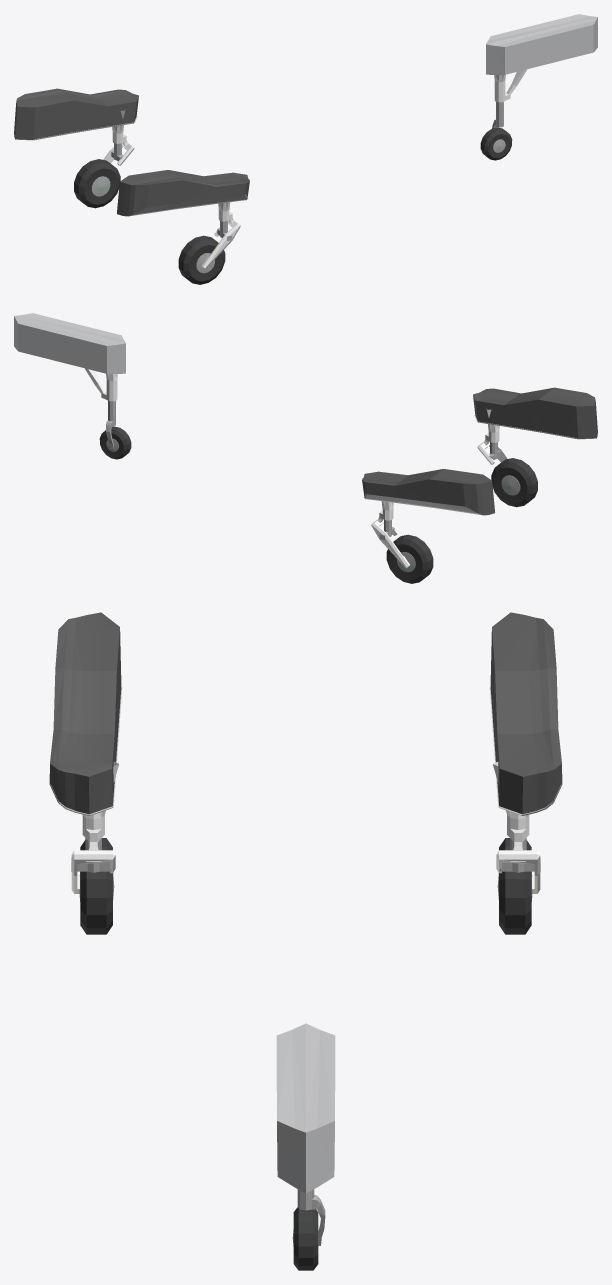
File: Gear_YF23NG.obj
3 views of the same model, one above another, from view 1: azimuth 30°, elevation 25°; view 2: azimuth 150°, elevation 25°; view 3: azimuth 270°, elevation 25° (orthographic). The views are drawn at different scales.
Visible parts, largest first — view 1: ShapeIndexedFaceSet.054_ShapeIndexedFaceSet.055, ShapeIndexedFaceSet.062_ShapeIndexedFaceSet.063, ShapeIndexedFaceSet.018_ShapeIndexedFaceSet.019, ShapeIndexedFaceSet.010_ShapeIndexedFaceSet.011, ShapeIndexedFaceSet.025_ShapeIndexedFaceSet.026, ShapeIndexedFaceSet.006_ShapeIndexedFaceSet.007, ShapeIndexedFaceSet.007_ShapeIndexedFaceSet.008; view 2: ShapeIndexedFaceSet.054_ShapeIndexedFaceSet.055, ShapeIndexedFaceSet.062_ShapeIndexedFaceSet.063, ShapeIndexedFaceSet.010_ShapeIndexedFaceSet.011, ShapeIndexedFaceSet.018_ShapeIndexedFaceSet.019, ShapeIndexedFaceSet.014_ShapeIndexedFaceSet.015, ShapeIndexedFaceSet.025_ShapeIndexedFaceSet.026, ShapeIndexedFaceSet.015_ShapeIndexedFaceSet.016; view 3: ShapeIndexedFaceSet.054_ShapeIndexedFaceSet.055, ShapeIndexedFaceSet.062_ShapeIndexedFaceSet.063, ShapeIndexedFaceSet.018_ShapeIndexedFaceSet.019, ShapeIndexedFaceSet.010_ShapeIndexedFaceSet.011, ShapeIndexedFaceSet.025_ShapeIndexedFaceSet.026, ShapeIndexedFaceSet.015_ShapeIndexedFaceSet.016, ShapeIndexedFaceSet.007_ShapeIndexedFaceSet.008.
Boxes of the visible parts, bbox=[...] form: ShapeIndexedFaceSet.054_ShapeIndexedFaceSet.055: bbox=[14, 88, 249, 216]; ShapeIndexedFaceSet.062_ShapeIndexedFaceSet.063: bbox=[486, 14, 597, 74]; ShapeIndexedFaceSet.018_ShapeIndexedFaceSet.019: bbox=[74, 159, 120, 208]; ShapeIndexedFaceSet.010_ShapeIndexedFaceSet.011: bbox=[178, 235, 225, 284]; ShapeIndexedFaceSet.025_ShapeIndexedFaceSet.026: bbox=[480, 127, 512, 160]; ShapeIndexedFaceSet.006_ShapeIndexedFaceSet.007: bbox=[129, 195, 247, 216]; ShapeIndexedFaceSet.007_ShapeIndexedFaceSet.008: bbox=[202, 220, 240, 269]; ShapeIndexedFaceSet.054_ShapeIndexedFaceSet.055: bbox=[362, 387, 597, 515]; ShapeIndexedFaceSet.062_ShapeIndexedFaceSet.063: bbox=[14, 313, 125, 373]; ShapeIndexedFaceSet.010_ShapeIndexedFaceSet.011: bbox=[491, 458, 537, 507]; ShapeIndexedFaceSet.018_ShapeIndexedFaceSet.019: bbox=[386, 534, 433, 583]; ShapeIndexedFaceSet.014_ShapeIndexedFaceSet.015: bbox=[364, 494, 482, 515]; ShapeIndexedFaceSet.025_ShapeIndexedFaceSet.026: bbox=[99, 426, 131, 459]; ShapeIndexedFaceSet.015_ShapeIndexedFaceSet.016: bbox=[371, 519, 409, 568]; ShapeIndexedFaceSet.054_ShapeIndexedFaceSet.055: bbox=[49, 612, 562, 814]; ShapeIndexedFaceSet.062_ShapeIndexedFaceSet.063: bbox=[276, 1023, 335, 1193]; ShapeIndexedFaceSet.018_ShapeIndexedFaceSet.019: bbox=[499, 838, 531, 934]; ShapeIndexedFaceSet.010_ShapeIndexedFaceSet.011: bbox=[80, 838, 112, 934]; ShapeIndexedFaceSet.025_ShapeIndexedFaceSet.026: bbox=[293, 1207, 318, 1270]; ShapeIndexedFaceSet.015_ShapeIndexedFaceSet.016: bbox=[496, 850, 540, 893]; ShapeIndexedFaceSet.007_ShapeIndexedFaceSet.008: bbox=[71, 850, 115, 893].
Size of the model in its own units: 11 by 2.37 by 4.59.
Materials: 25 (25 with a texture image).
